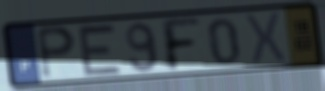0: (205, 16, 245, 67)
9: (123, 20, 160, 74)
E: (75, 23, 125, 79)
F: (157, 17, 204, 74)
P: (34, 24, 79, 82)
X: (244, 10, 288, 66)
